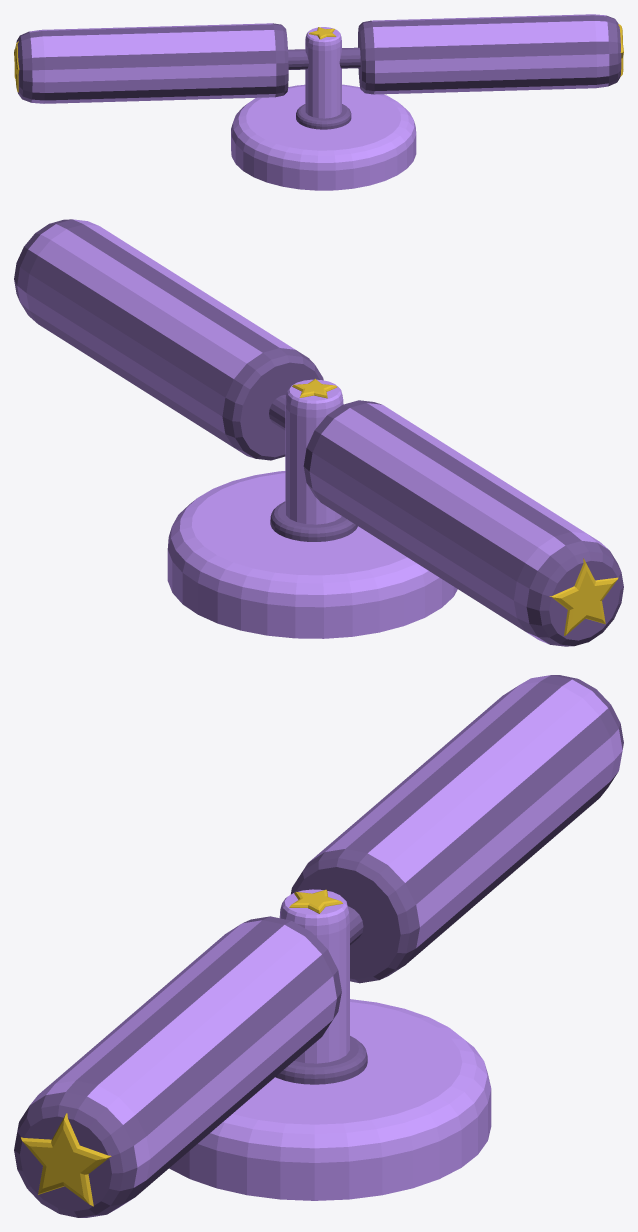
File: WipeOut.fbx
3 views of the same model, one above another, from view 1: azimuth 30°, elevation 25°; view 2: azimuth 150°, elevation 25°; view 3: azimuth 270°, elevation 25° (orthographic). The views are drawn at different scales.
Visible parts, largest first — view 1: Circle.001, Cylinder; view 2: Circle.001, Cylinder; view 3: Circle.001, Cylinder.
Boxes of the visible parts, bbox=[...] form: Circle.001: bbox=[14, 14, 623, 118]; Cylinder: bbox=[231, 84, 416, 190]; Circle.001: bbox=[14, 219, 623, 646]; Cylinder: bbox=[167, 471, 457, 638]; Circle.001: bbox=[14, 675, 623, 1217]; Cylinder: bbox=[169, 999, 491, 1200].
Size of the model in its own units: 609 by 149 by 345.
